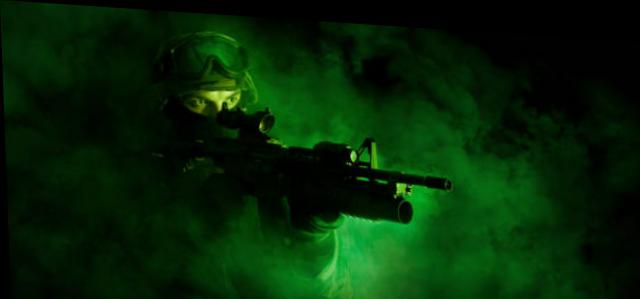other: (142, 21, 332, 259)
